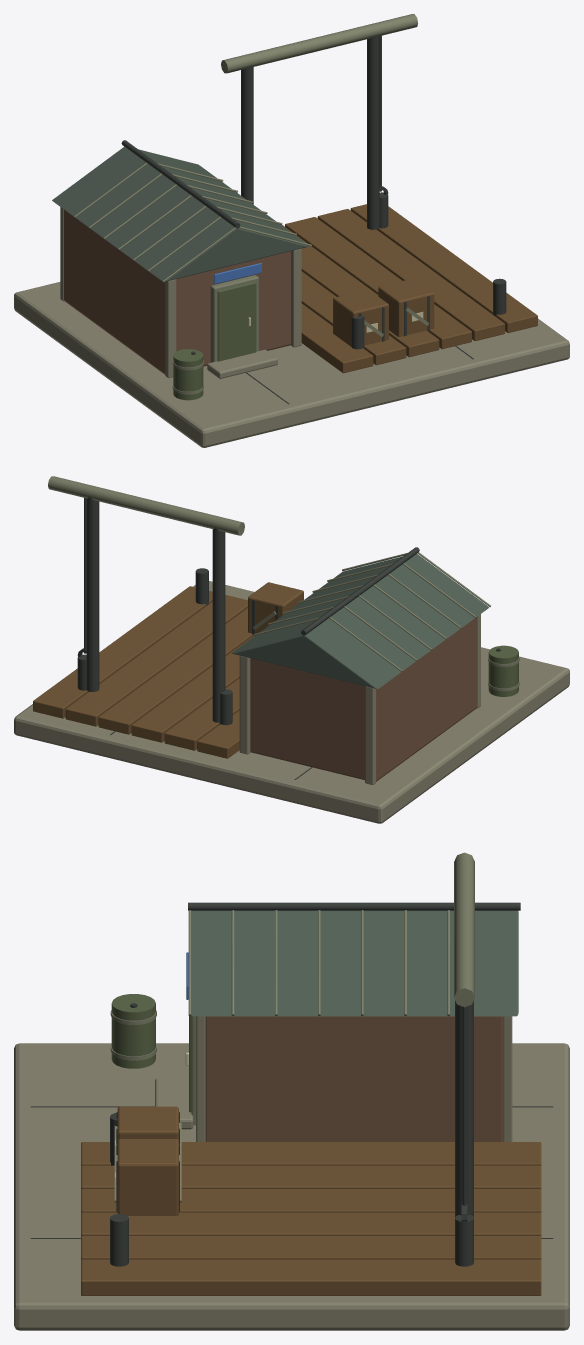
Rendered from shipyard.glb.
3 views of the same model, one above another, from view 1: azimuth 30°, elevation 25°; view 2: azimuth 150°, elevation 25°; view 3: azimuth 270°, elevation 25° (orthographic). The views are drawn at different scales.
Visible parts, largest first — view 1: Concrete, Timber, RoofMetal, Masonry, EdgeSteel, Steel, Armor; view 2: Concrete, Timber, Masonry, RoofMetal, Steel, EdgeSteel, Armor; view 3: Timber, Concrete, Masonry, RoofMetal, Steel, EdgeSteel, Armor.
Part boxes in pixels (x1=…): Concrete: x1=14, y1=207, x2=569, y2=447; Timber: x1=281, y1=204, x2=537, y2=373; RoofMetal: x1=52, y1=146, x2=309, y2=281; Masonry: x1=64, y1=210, x2=290, y2=374; EdgeSteel: x1=74, y1=14, x2=429, y2=394; Steel: x1=121, y1=34, x2=506, y2=404; Armor: x1=173, y1=282, x2=256, y2=400; Concrete: x1=14, y1=581, x2=569, y2=823; Timber: x1=33, y1=582, x2=303, y2=758; Masonry: x1=250, y1=617, x2=477, y2=781; RoofMetal: x1=231, y1=554, x2=489, y2=688; Steel: x1=77, y1=497, x2=500, y2=779; EdgeSteel: x1=48, y1=476, x2=519, y2=691; Armor: x1=488, y1=645, x2=518, y2=696; Timber: x1=81, y1=1106, x2=541, y2=1295; Concrete: x1=14, y1=1016, x2=569, y2=1330; Masonry: x1=205, y1=1016, x2=502, y2=1141; RoofMetal: x1=191, y1=910, x2=518, y2=1016; Steel: x1=30, y1=902, x2=553, y2=1266; EdgeSteel: x1=110, y1=852, x2=474, y2=1202; Armor: x1=111, y1=994, x2=191, y2=1112.
Size of the model in its own units: 6.5 by 3.94 by 5.8.
